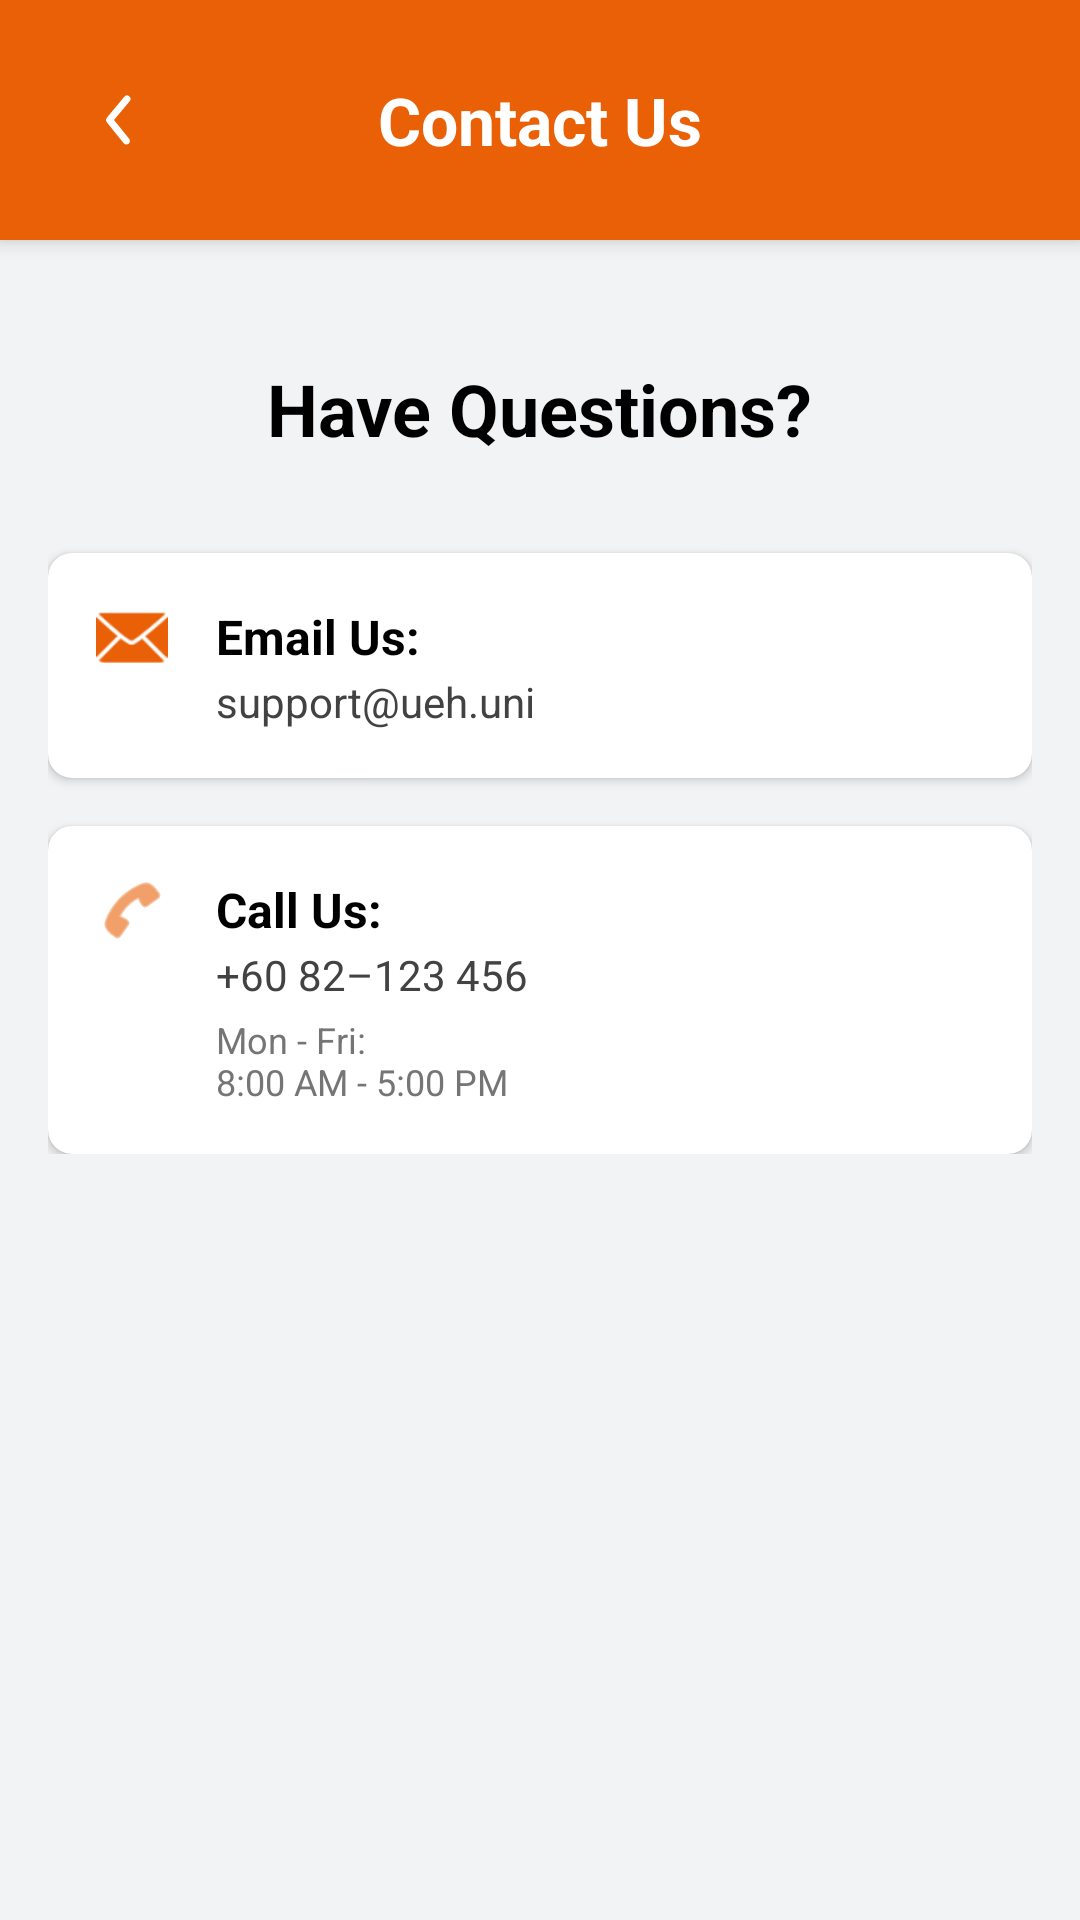

Screen size 1080w x 1920h. Icon name, then its center in pixels as (x,y):
Back: (118,120)
Phone icon: (132,910)
